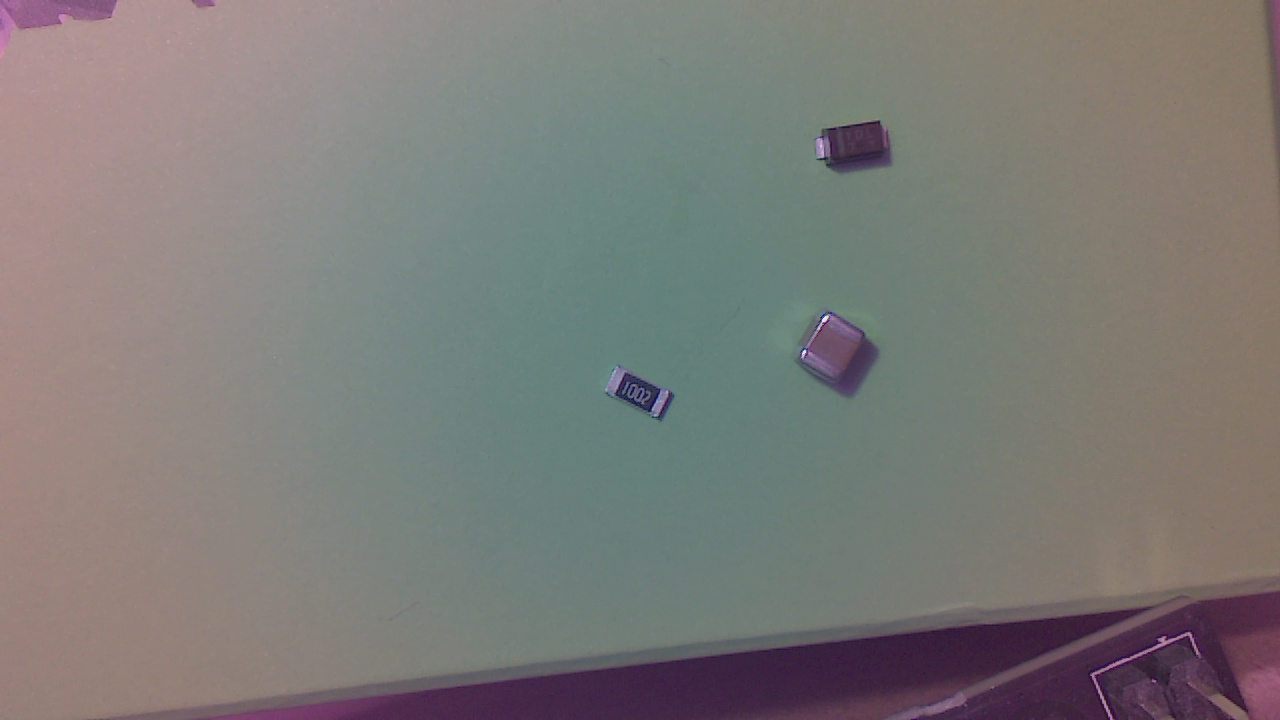Condensator: (802, 323, 871, 386)
Diode: (820, 127, 897, 178)
Resistor: (610, 372, 678, 422)
